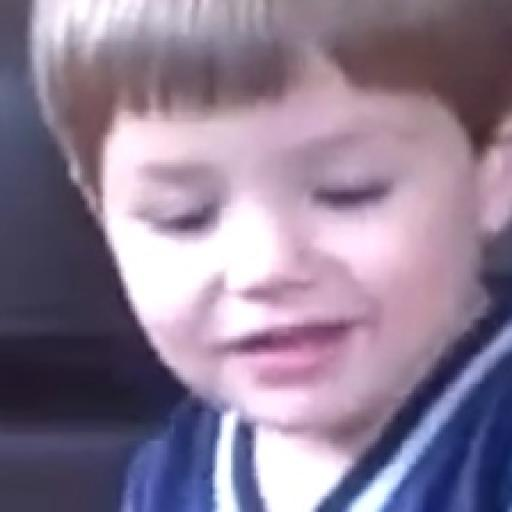Autism: (79, 10, 512, 434)
